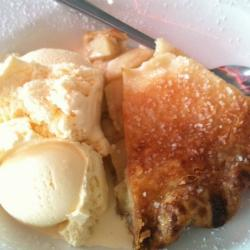apple_pie: (106, 41, 248, 240)
icecream: (2, 50, 107, 238)
